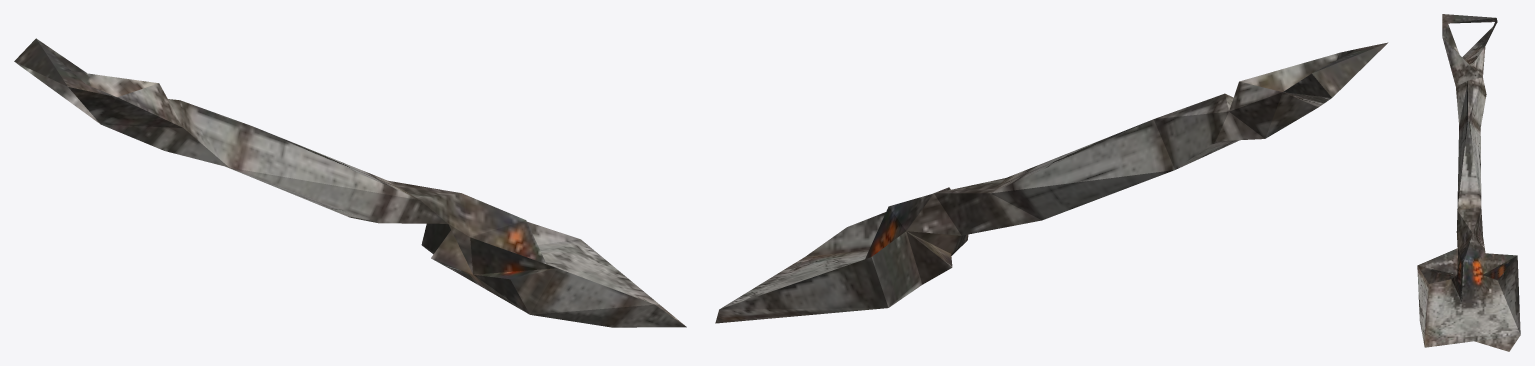
File: prop.shovel.lod.glb
3 views of the same model, side by side, from view 1: azimuth 30°, elevation 25°; view 2: azimuth 150°, elevation 25°; view 3: azimuth 270°, elevation 25° (orthographic). The views are drawn at different scales.
Visible parts, largest first — view 1: body; view 2: body; view 3: body.
Boxes of the visible parts, box(x1,y1,x2,y2) form: body: box(14, 38, 686, 327); body: box(715, 42, 1388, 323); body: box(1417, 14, 1520, 351).
Size of the model in its own units: 0.4958 by 0.2995 by 0.1464.
1 material, 1 textured.
